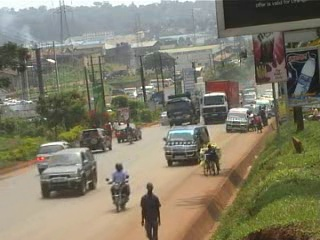Car: (37, 144, 99, 200), (34, 139, 75, 174), (77, 126, 114, 153), (114, 121, 146, 143), (158, 110, 167, 128)
Motorcycle: (105, 169, 134, 215), (123, 127, 134, 146)
